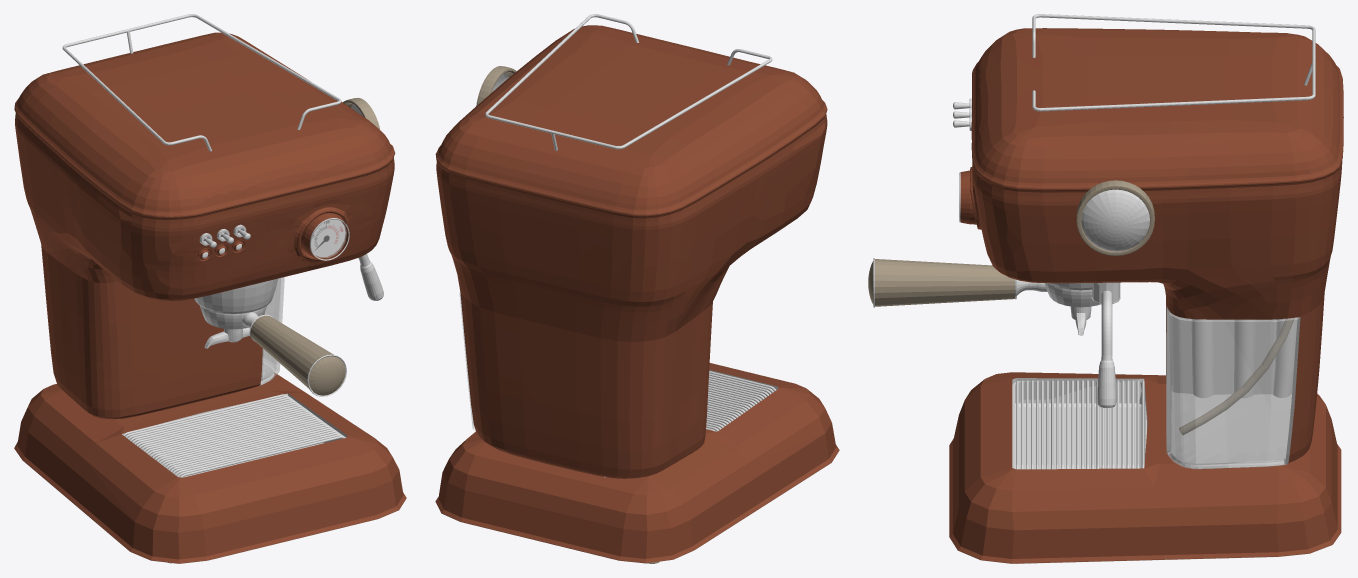
File: coffee-machine.glb
The picture shows the model from 3 angles, left to right: view 1: azimuth 30°, elevation 25°; view 2: azimuth 150°, elevation 25°; view 3: azimuth 270°, elevation 25°; orthographic projection. The views are drawn at different scales.
Visible parts, largest first — view 1: Coffee machine Ascaso Dream N301222; view 2: Coffee machine Ascaso Dream N301222; view 3: Coffee machine Ascaso Dream N301222.
Boxes of the visible parts, x1,y1,x2,y2 form: Coffee machine Ascaso Dream N301222: [14, 14, 406, 563]; Coffee machine Ascaso Dream N301222: [435, 14, 839, 563]; Coffee machine Ascaso Dream N301222: [868, 14, 1343, 563].
Bounding box in the file's own units: 102 × 131 × 128.
